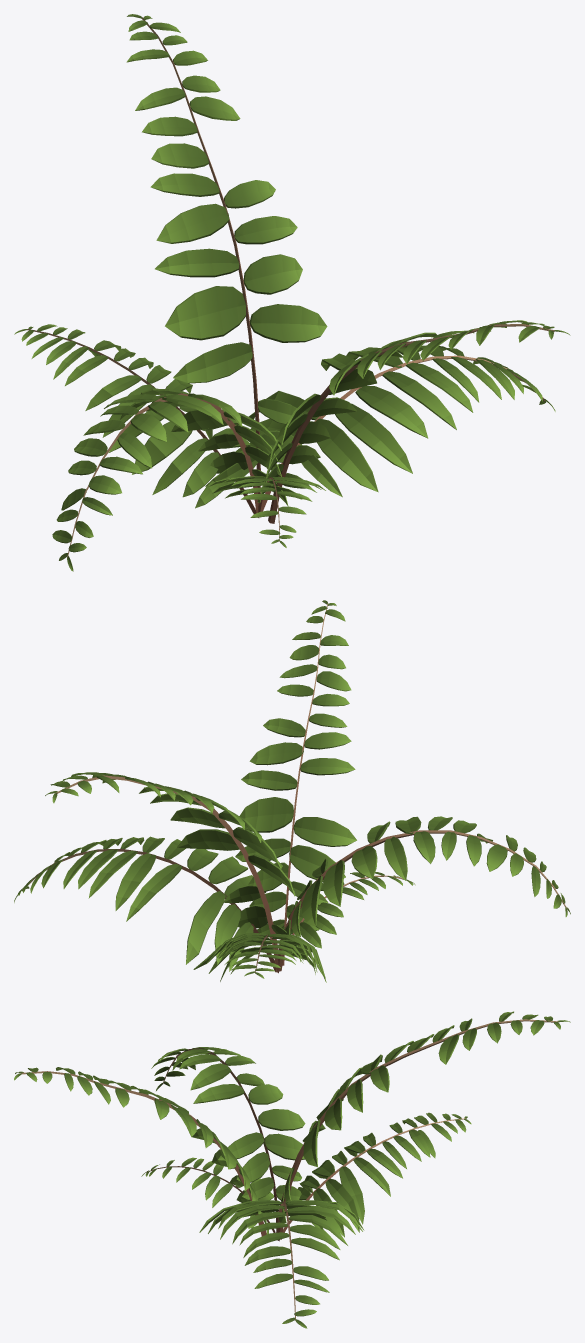
Rendered from Cavern_Fern-03.fbx.
The picture shows the model from 3 angles, top to bottom: view 1: azimuth 30°, elevation 25°; view 2: azimuth 150°, elevation 25°; view 3: azimuth 270°, elevation 25°; orthographic projection. The views are drawn at different scales.
Visible parts, largest first — view 1: Cavern_Fern-03; view 2: Cavern_Fern-03; view 3: Cavern_Fern-03.
Boxes of the visible parts, x1,y1,x2,y2 form: Cavern_Fern-03: [14, 14, 570, 571]; Cavern_Fern-03: [14, 600, 570, 982]; Cavern_Fern-03: [14, 1011, 570, 1328].
Bounding box in the file's own units: 366 × 207 × 423.
Materials: 1 (1 with a texture image).
